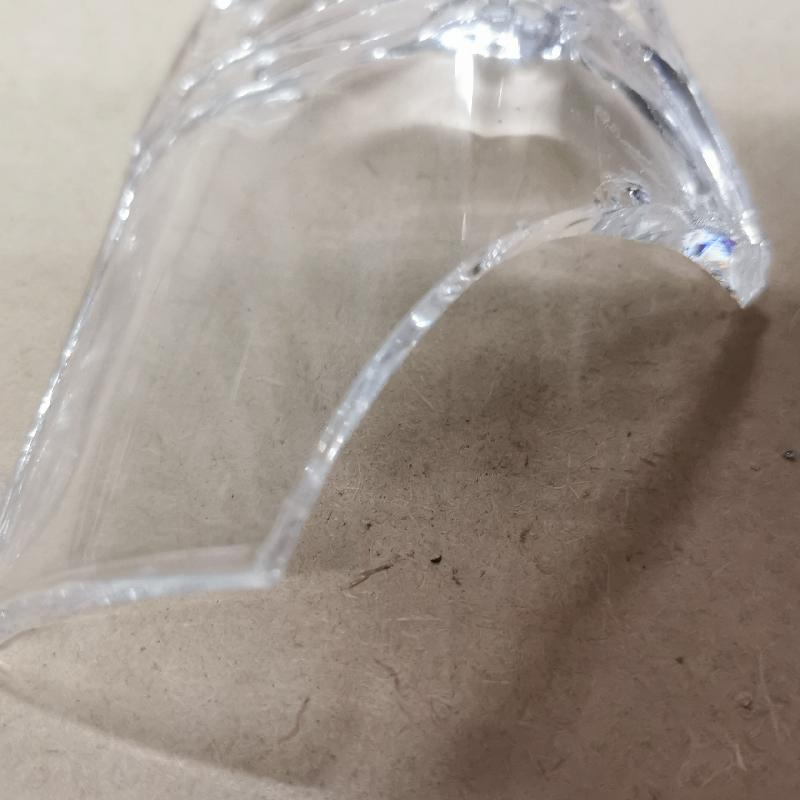glass: (0, 8, 771, 603)
